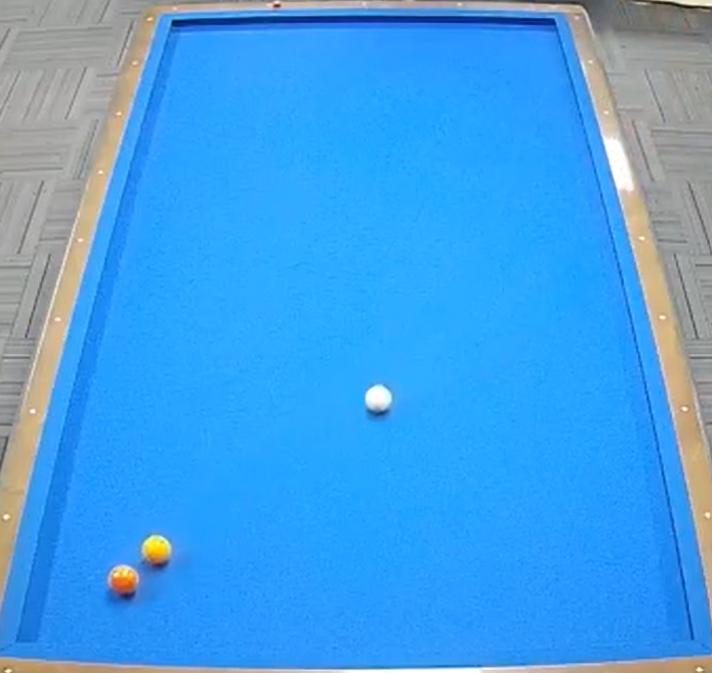orange ball: (100, 561, 144, 604)
white ball: (362, 377, 398, 423)
yellow ball: (138, 531, 175, 573)
